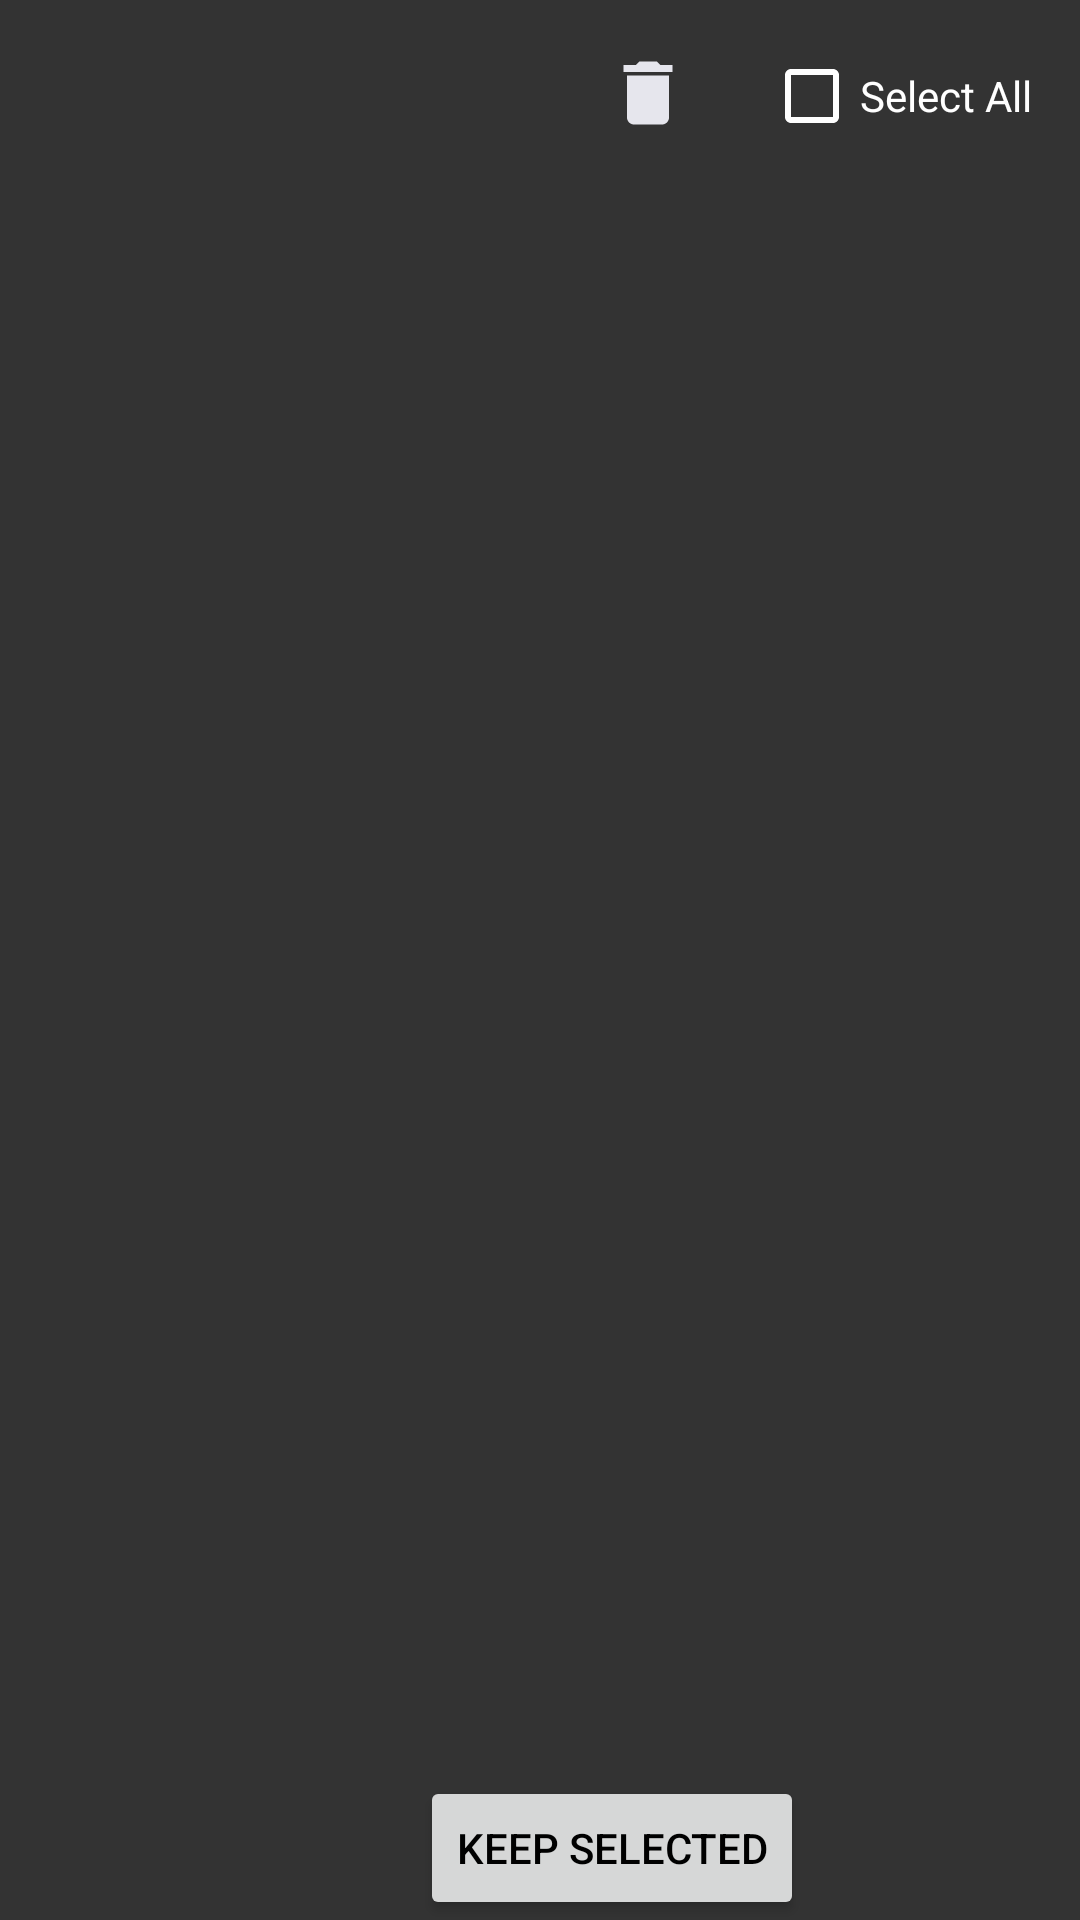

Icons on this 1080×1920 Android screen, each with the point to tap as point (x, y):
Delete Selected: point (648, 93)
